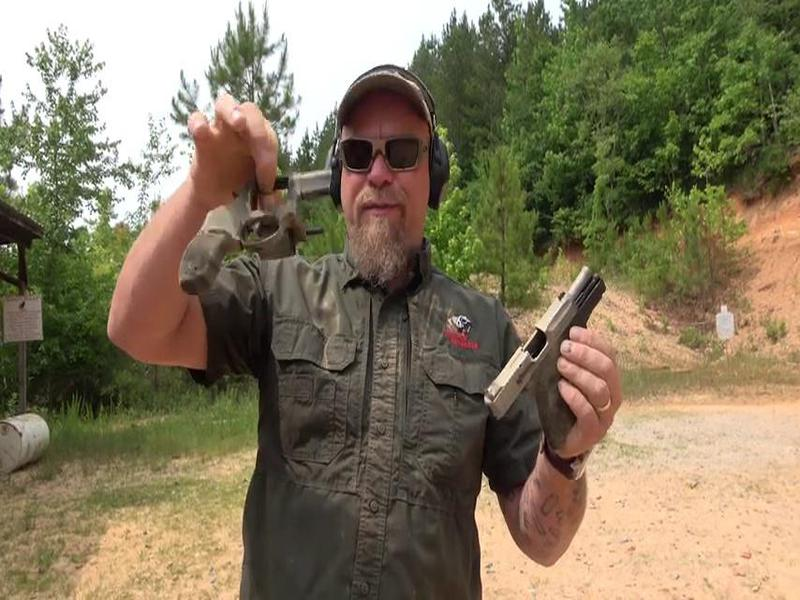Pistola: (462, 257, 654, 473)
Revolver: (158, 154, 361, 321)
